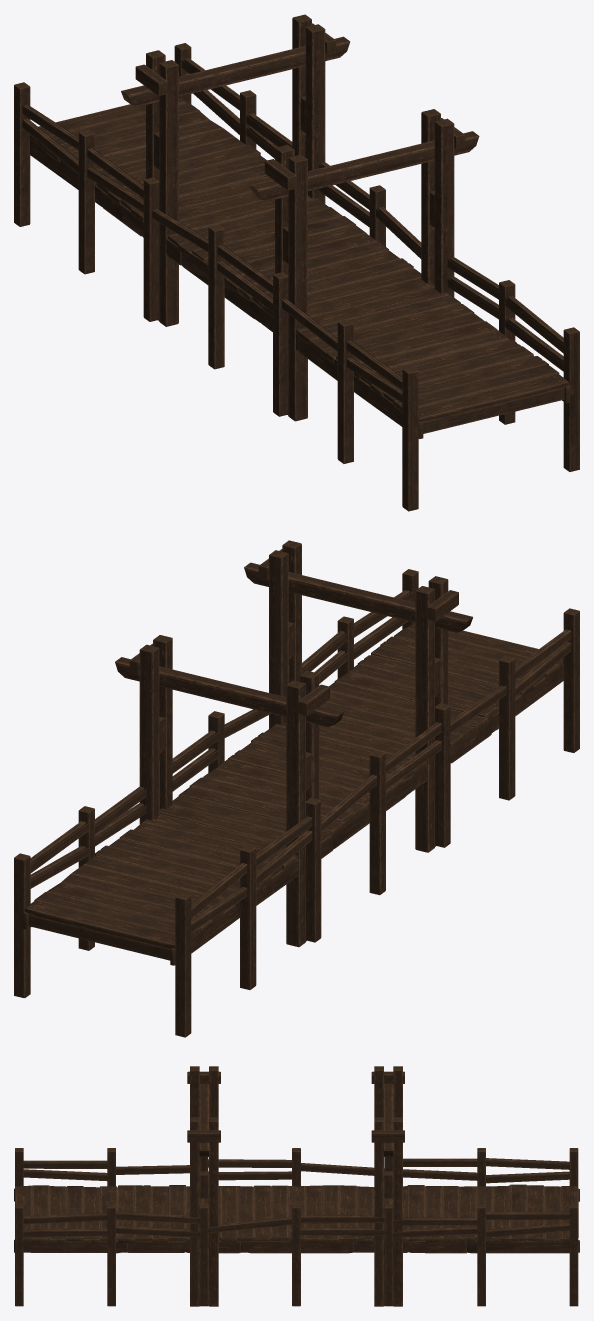
The model's file is Bridge01_Frames.glb.
3 views of the same model, one above another, from view 1: azimuth 30°, elevation 25°; view 2: azimuth 150°, elevation 25°; view 3: azimuth 270°, elevation 25° (orthographic). The views are drawn at different scales.
Visible parts, largest first — view 1: Bridge01; view 2: Bridge01; view 3: Bridge01.
Boxes of the visible parts, x1,y1,x2,y2 form: Bridge01: (14,14,579,511); Bridge01: (14,540,579,1037); Bridge01: (14,1066,579,1306).
Size of what is drawn, in the model's own units: 8.16 by 9.07 by 25.13.
Materials: 2 (2 with a texture image).
